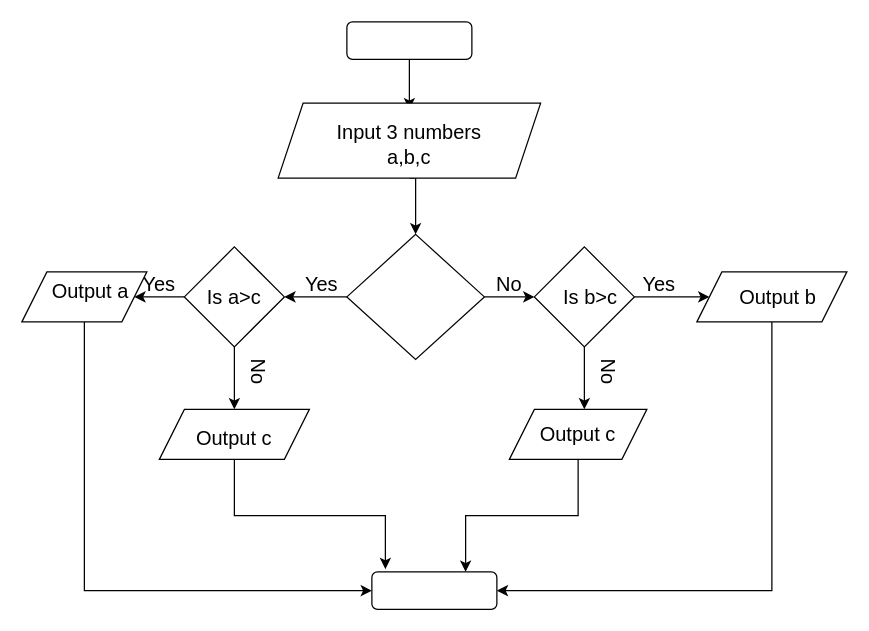
The diagram is 869 pixels wide and 631 high, and some of its shapes have lost their labels. Here are the shapes that lost their labels. From the top down, the centre of each, then its label:
At pixel 409 40: "START".
At pixel 415 296: "Is a>b".
At pixel 434 590: "STOP".
